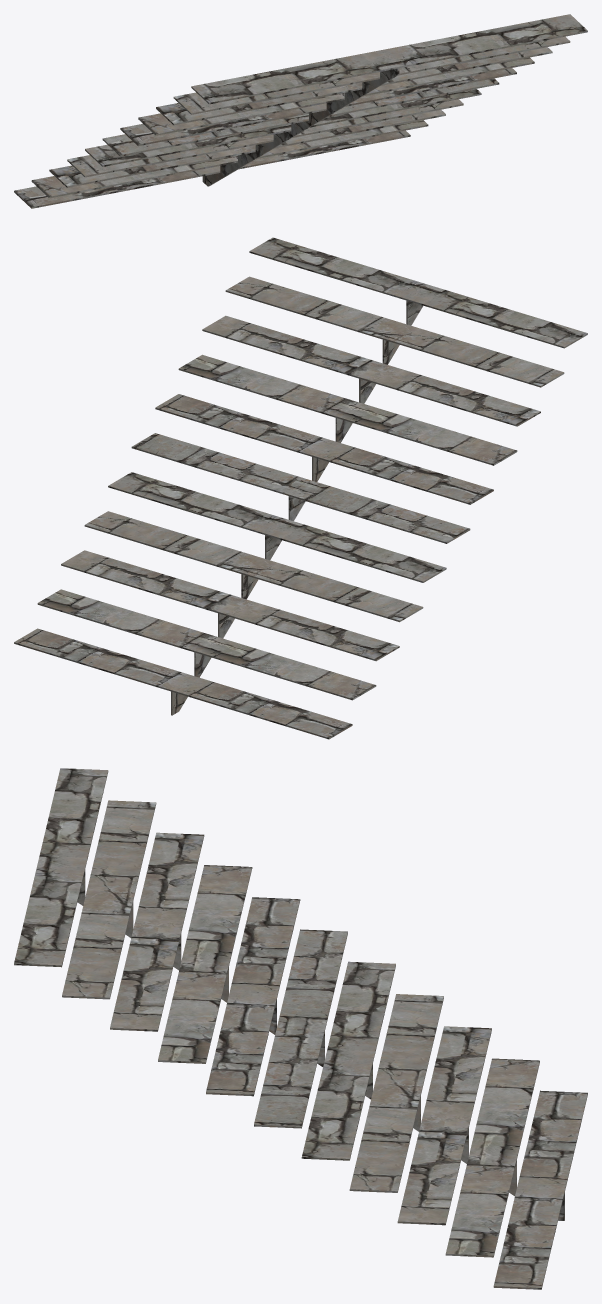
The model's file is stairs.fbx.
The picture shows the model from 3 angles, top to bottom: view 1: azimuth 30°, elevation 25°; view 2: azimuth 150°, elevation 25°; view 3: azimuth 270°, elevation 25°; orthographic projection. The views are drawn at different scales.
Parts seen in each view (by area): view 1: StraightStair001; view 2: StraightStair001; view 3: StraightStair001.
Boxes of the visible parts, box(x1,y1,x2,y2) form: StraightStair001: box(14, 14, 587, 208); StraightStair001: box(14, 237, 587, 739); StraightStair001: box(14, 768, 587, 1289).
Size of the model in its own units: 278 by 198 by 310.
Materials: 1 (1 with a texture image).
